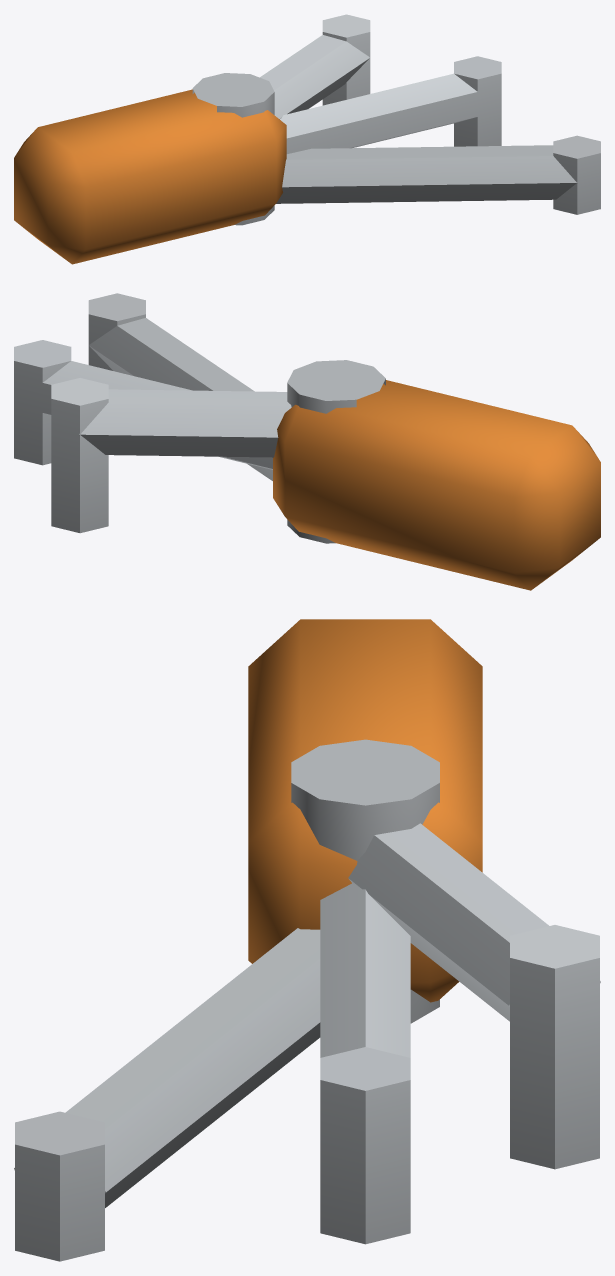
The model's file is SM_HexKeys_01.glb.
The picture shows the model from 3 angles, top to bottom: view 1: azimuth 30°, elevation 25°; view 2: azimuth 150°, elevation 25°; view 3: azimuth 270°, elevation 25°; orthographic projection. The views are drawn at different scales.
Parts seen in each view (by area): view 1: SM_HexKeys_01; view 2: SM_HexKeys_01; view 3: SM_HexKeys_01.
Boxes of the visible parts, left/top/right/bottom form: SM_HexKeys_01: left=14, top=14, right=600, bottom=264; SM_HexKeys_01: left=14, top=293, right=600, bottom=590; SM_HexKeys_01: left=14, top=619, right=600, bottom=1261.
Size of the model in its own units: 0.1643 by 0.038 by 0.0902.
Materials: 1 (1 with a texture image).
